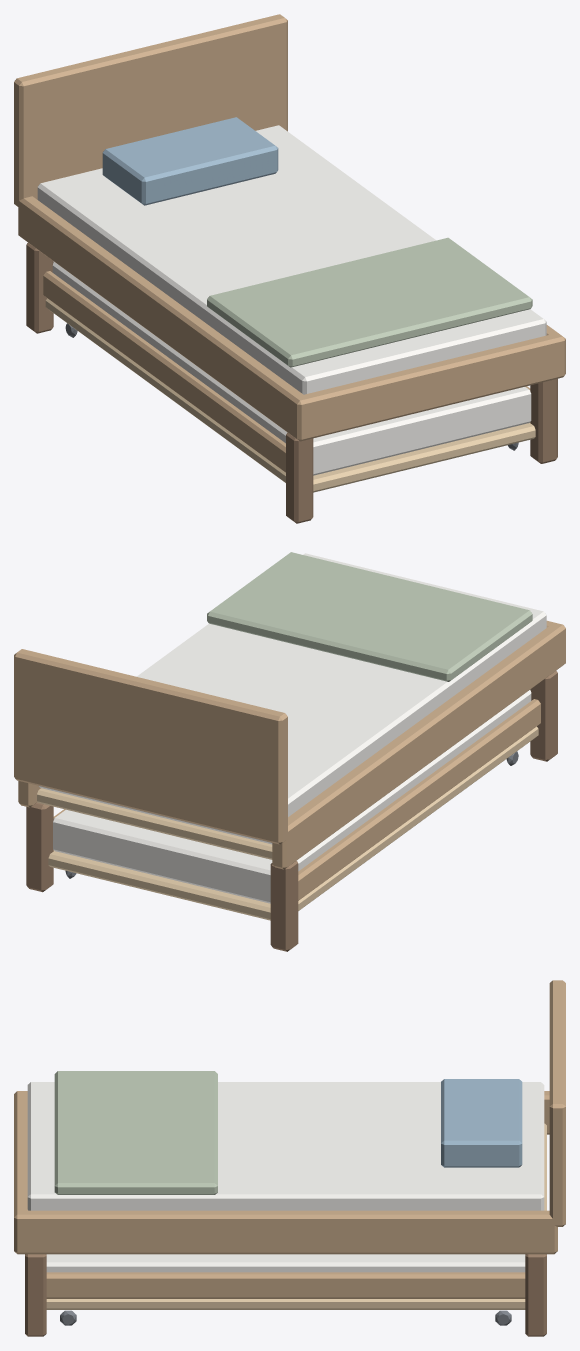
The model's file is TrundleBed.glb.
The picture shows the model from 3 angles, top to bottom: view 1: azimuth 30°, elevation 25°; view 2: azimuth 150°, elevation 25°; view 3: azimuth 270°, elevation 25°; orthographic projection. The views are drawn at different scales.
Visible parts, largest first — view 1: TrundleBed_Main, TrundleBed_Trundle; view 2: TrundleBed_Main, TrundleBed_Trundle; view 3: TrundleBed_Main, TrundleBed_Trundle.
Part boxes in pixels (box(x1,y1,x2,y2)): TrundleBed_Main: box(14, 14, 565, 523); TrundleBed_Trundle: box(43, 262, 535, 492); TrundleBed_Main: box(14, 552, 565, 951); TrundleBed_Trundle: box(48, 690, 540, 920); TrundleBed_Main: box(14, 980, 565, 1336); TrundleBed_Trundle: box(46, 1254, 525, 1325).
Size of the model in its own units: 1.1 by 0.95 by 2.03.
